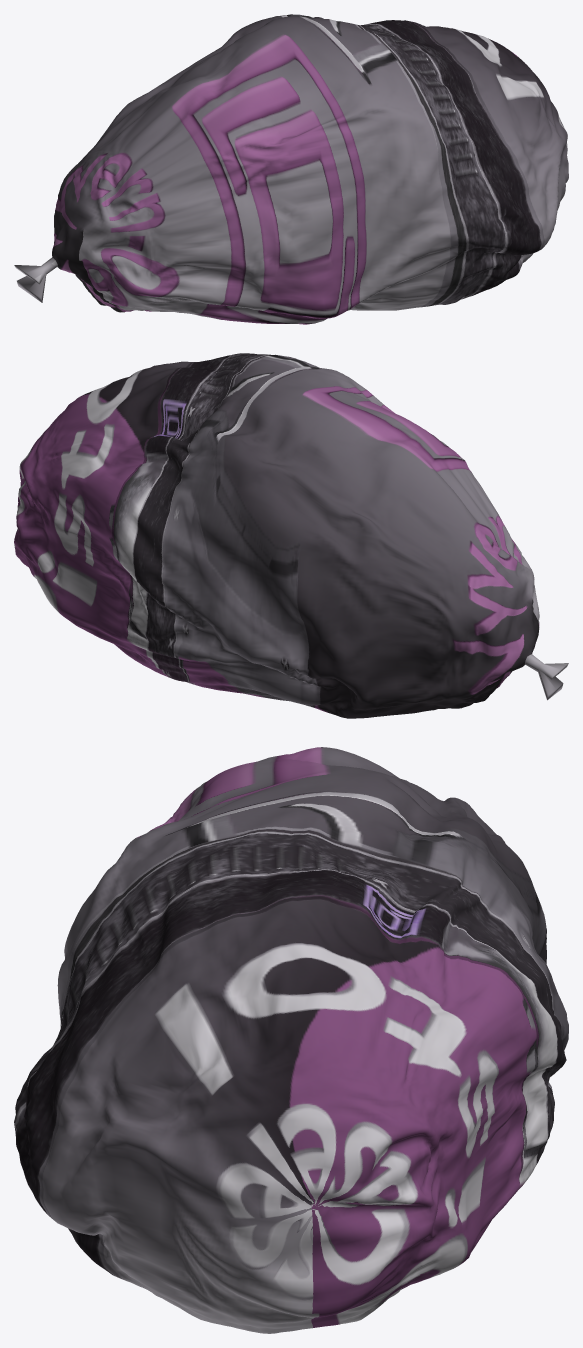
Rendered from SM_TrashBag3HI.fbx.
The picture shows the model from 3 angles, top to bottom: view 1: azimuth 30°, elevation 25°; view 2: azimuth 150°, elevation 25°; view 3: azimuth 270°, elevation 25°; orthographic projection. The views are drawn at different scales.
Visible parts, largest first — view 1: Cube; view 2: Cube; view 3: Cube.
Part boxes in pixels (x1,y1,x2,y2): Cube: [14, 14, 568, 324]; Cube: [14, 353, 568, 718]; Cube: [14, 747, 568, 1333].
Size of the model in its own units: 70.11 by 41.11 by 34.34.
